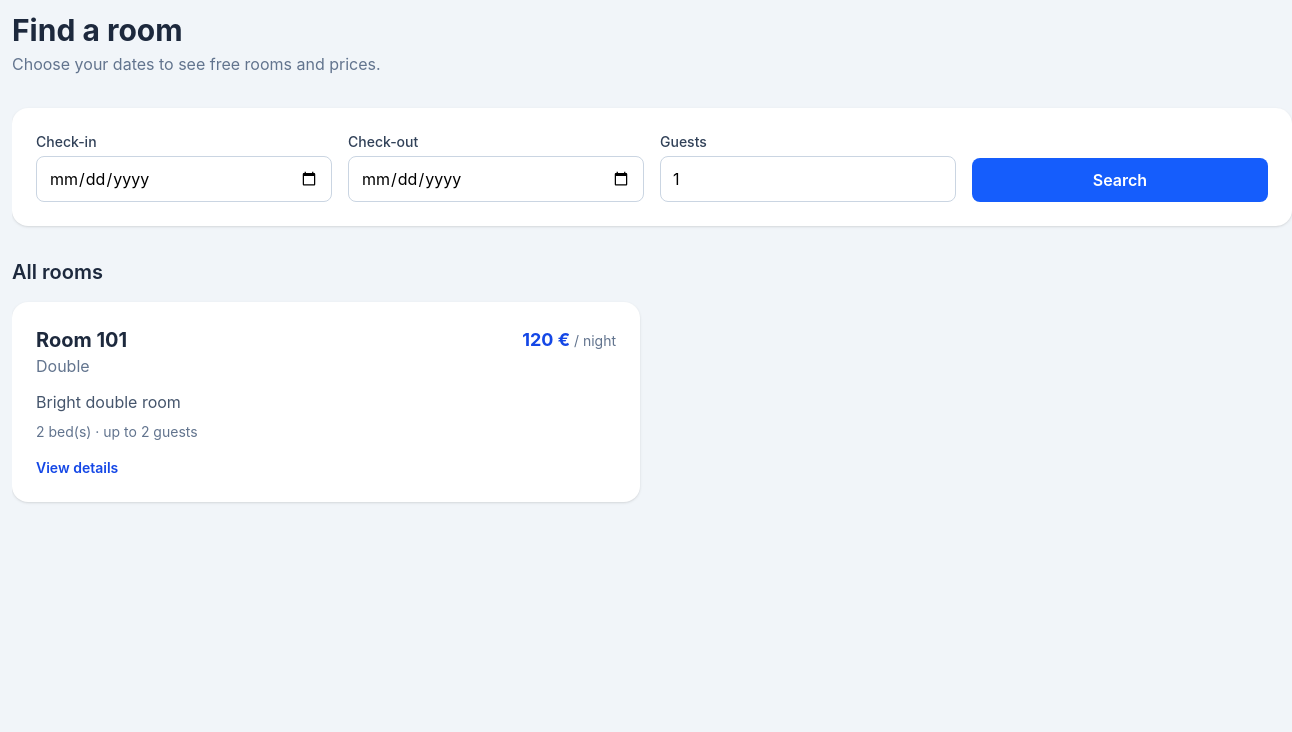
it: RoomsPage › shows no Book button for an administrator
Expected: the heading "Room 101" is shown, [36,326,127,354]
Type "2030-01-10" into the date field below "Check-in".
click(184, 179); type("2030-01-10")  # box [36,156,332,202]
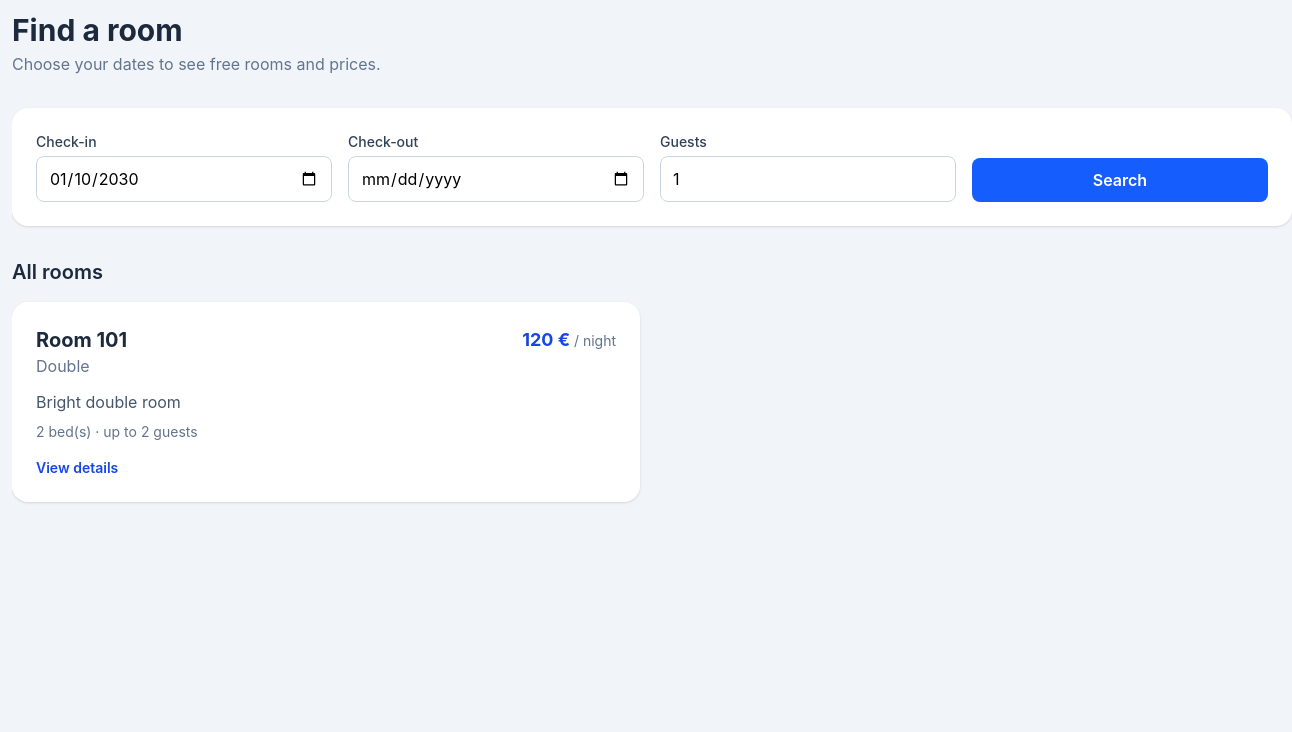
Type "2030-01-12" into the date field below "Check-out".
click(496, 179); type("2030-01-12")  # box [348,156,644,202]
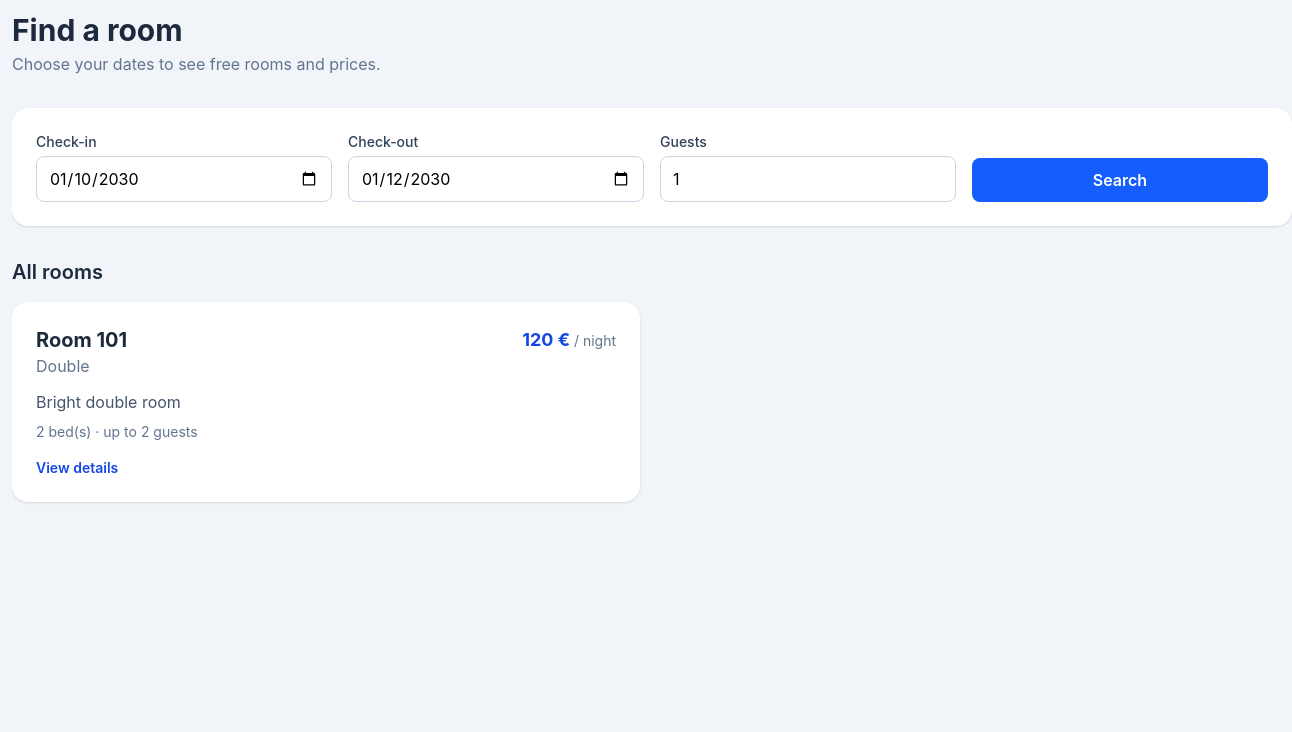
Click the button "Search".
click(1120, 180)  # box [972,158,1268,202]
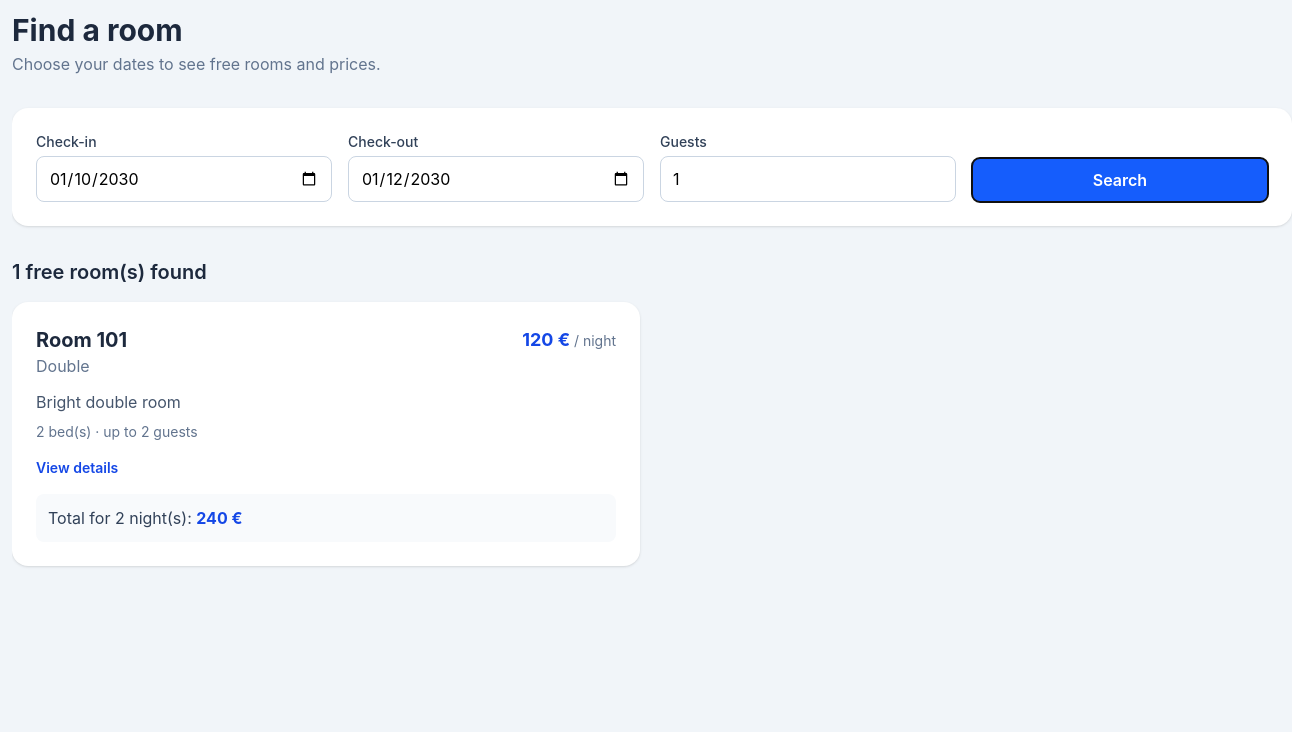
Result: the text "240 €" is shown at [196,508,242,528]
